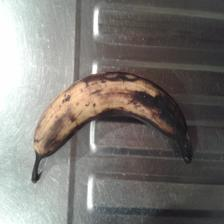Banana Rotten: (26, 71, 189, 162)
